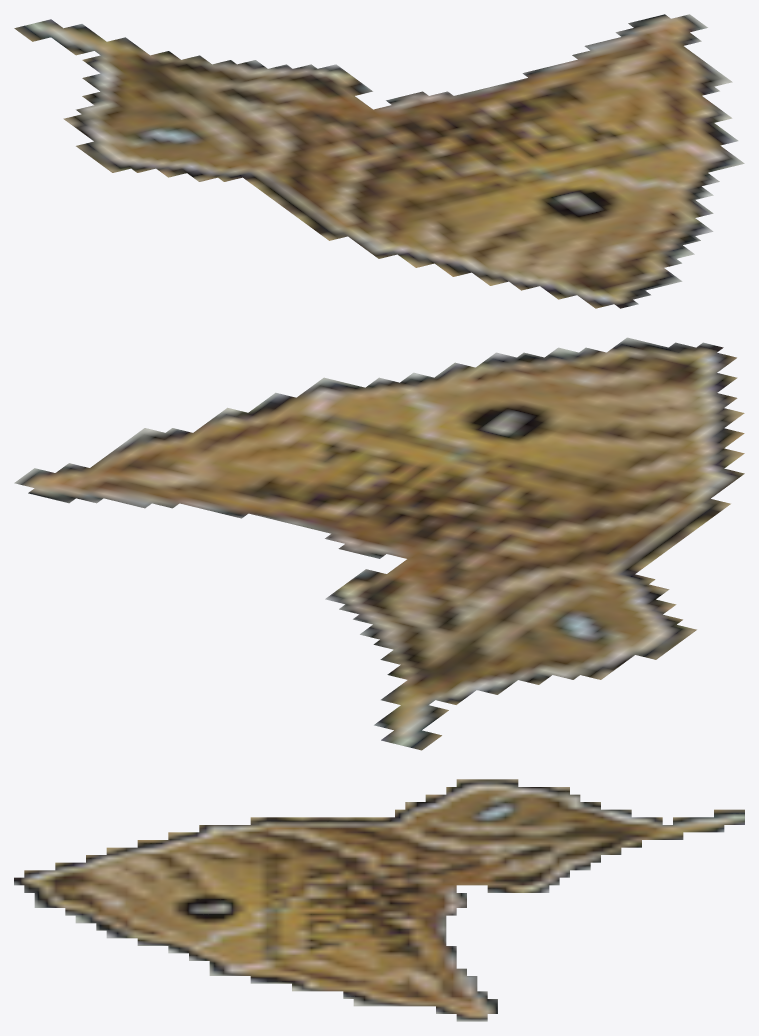
File: italian-east-africa.gltf
3 renders of one model, top to bottom at view 1: azimuth 30°, elevation 25°; view 2: azimuth 150°, elevation 25°; view 3: azimuth 270°, elevation 25°, orthographic. The views are drawn at different scales.
Visible parts, largest first — view 1: Plane; view 2: Plane; view 3: Plane.
Boxes of the visible parts, x1,y1,x2,y2 form: Plane: (14,14,744,308); Plane: (14,337,744,750); Plane: (14,779,744,1021).
Size of the model in its own units: 0.3159 by 0 by 0.4032.
1 material, 1 textured.
